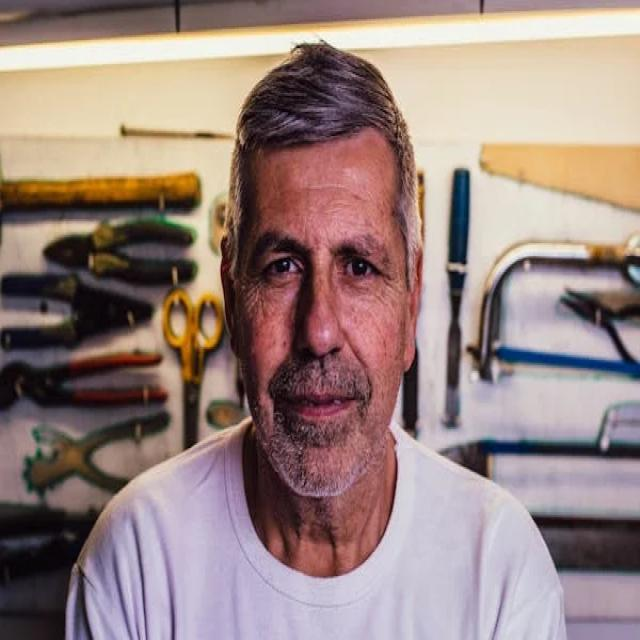no_mask: (231, 80, 421, 516)
